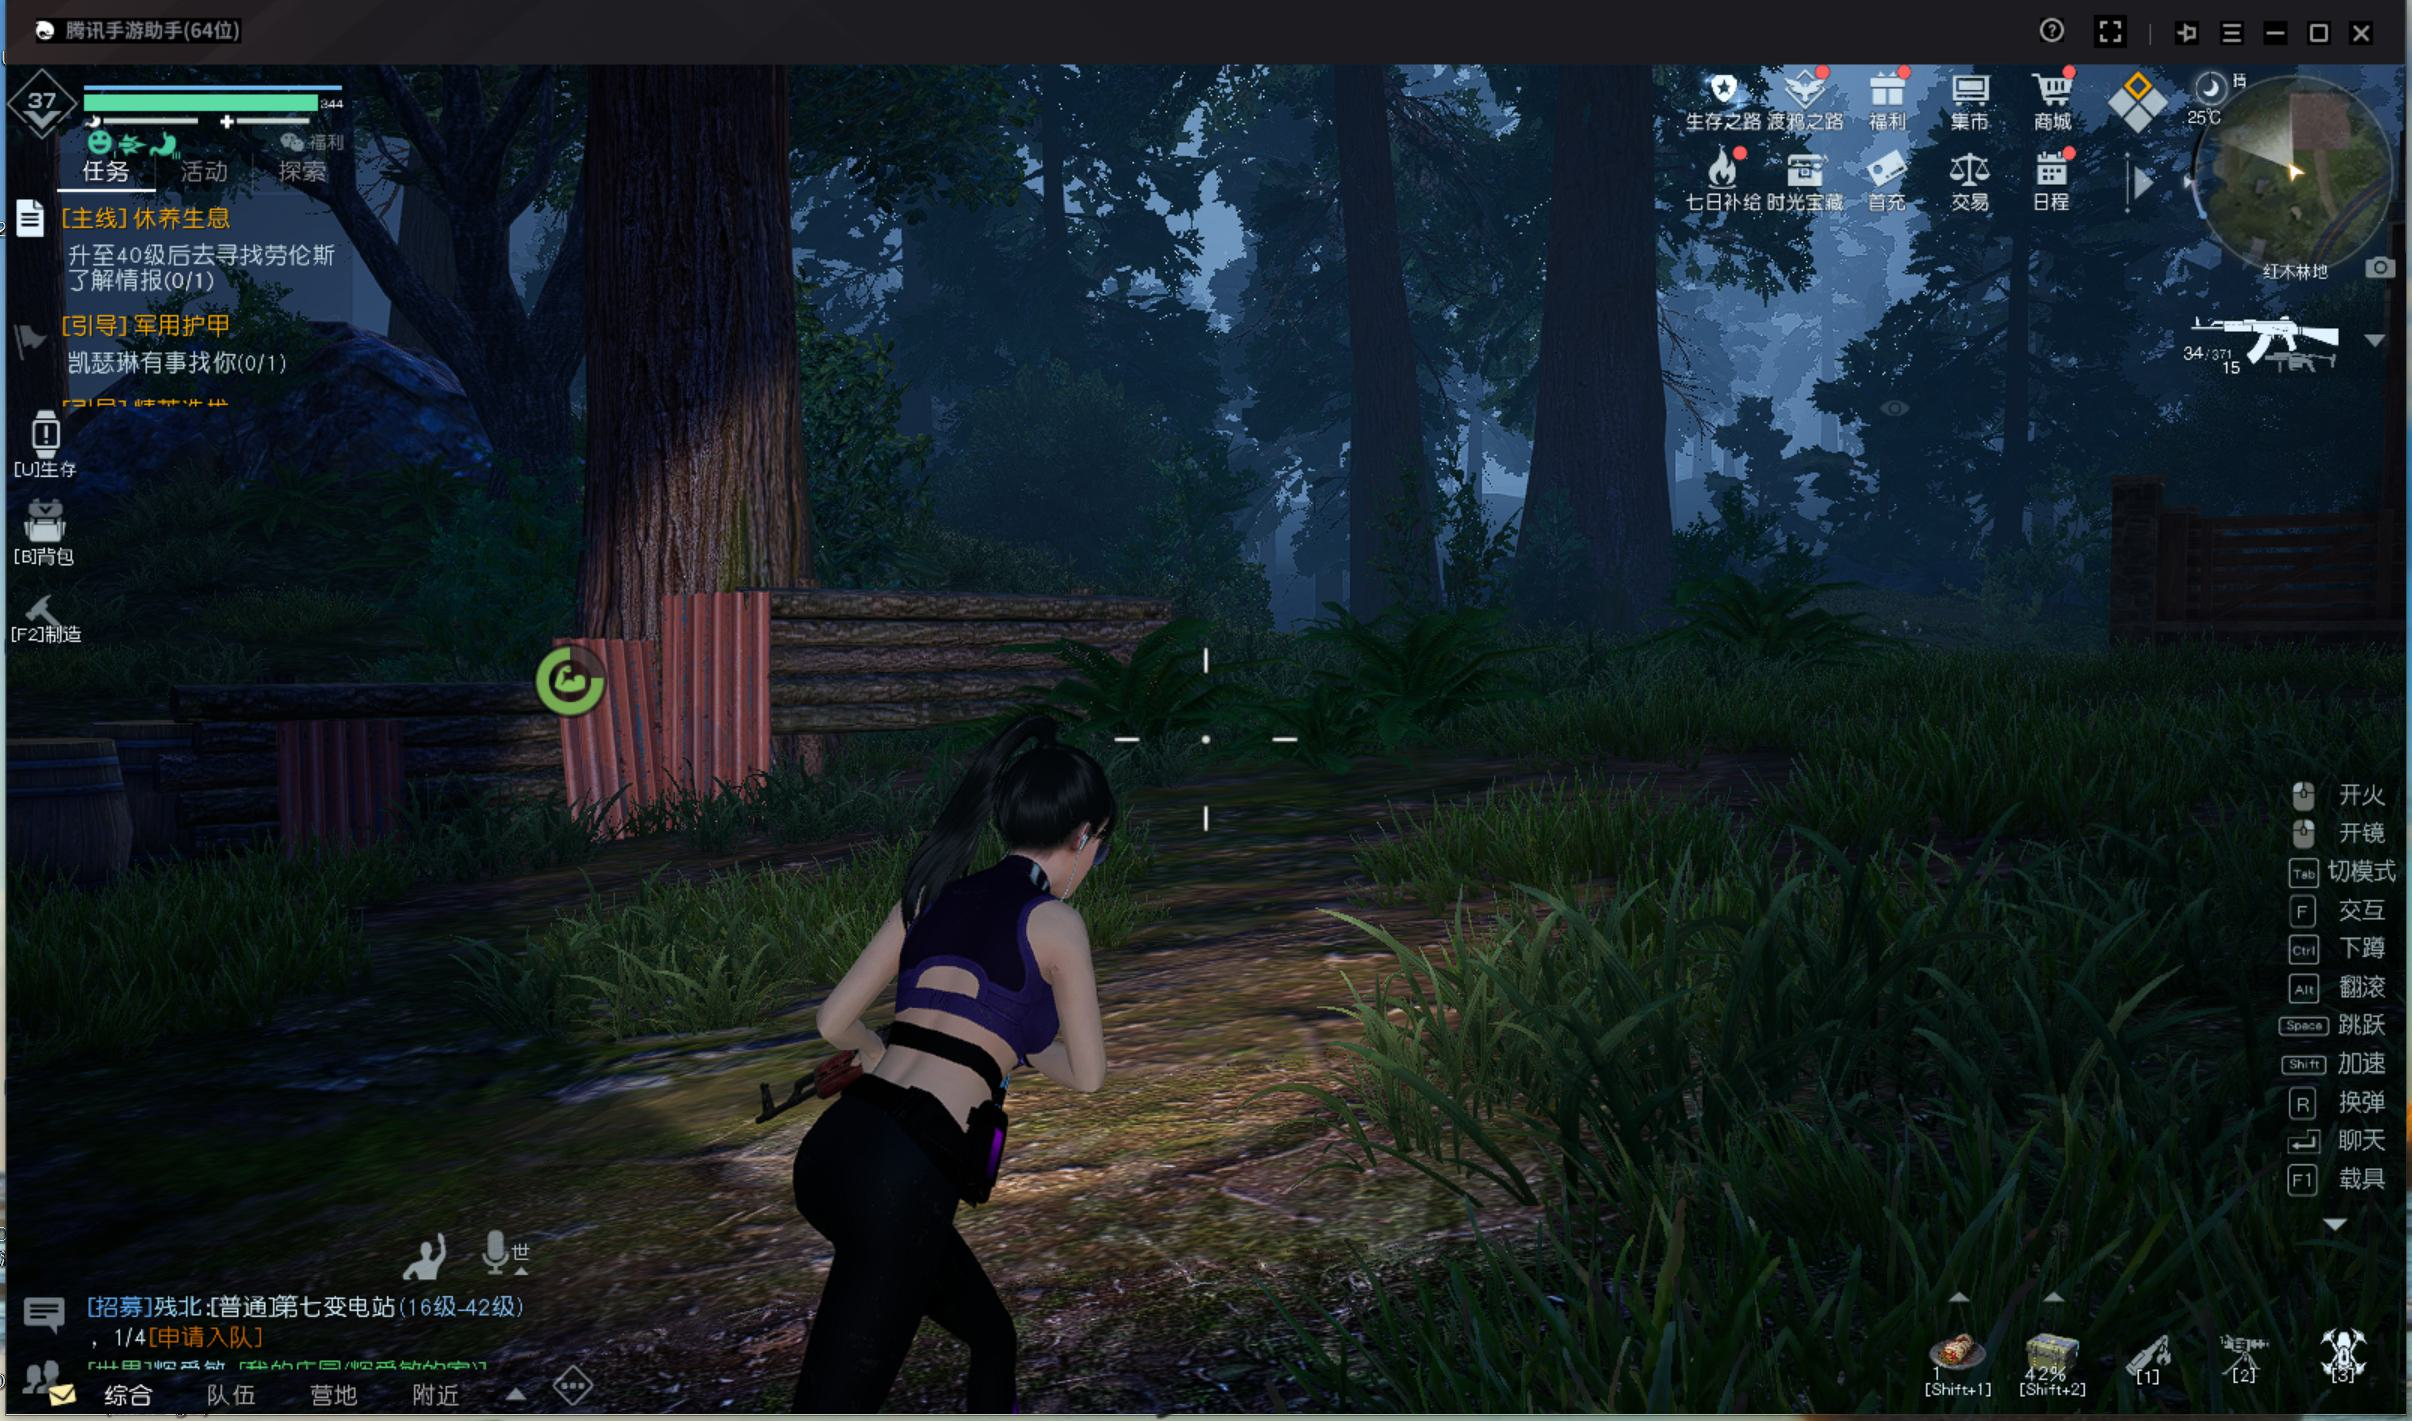tree: (572, 145, 844, 589), (1514, 167, 1698, 712), (1314, 173, 1448, 682)
